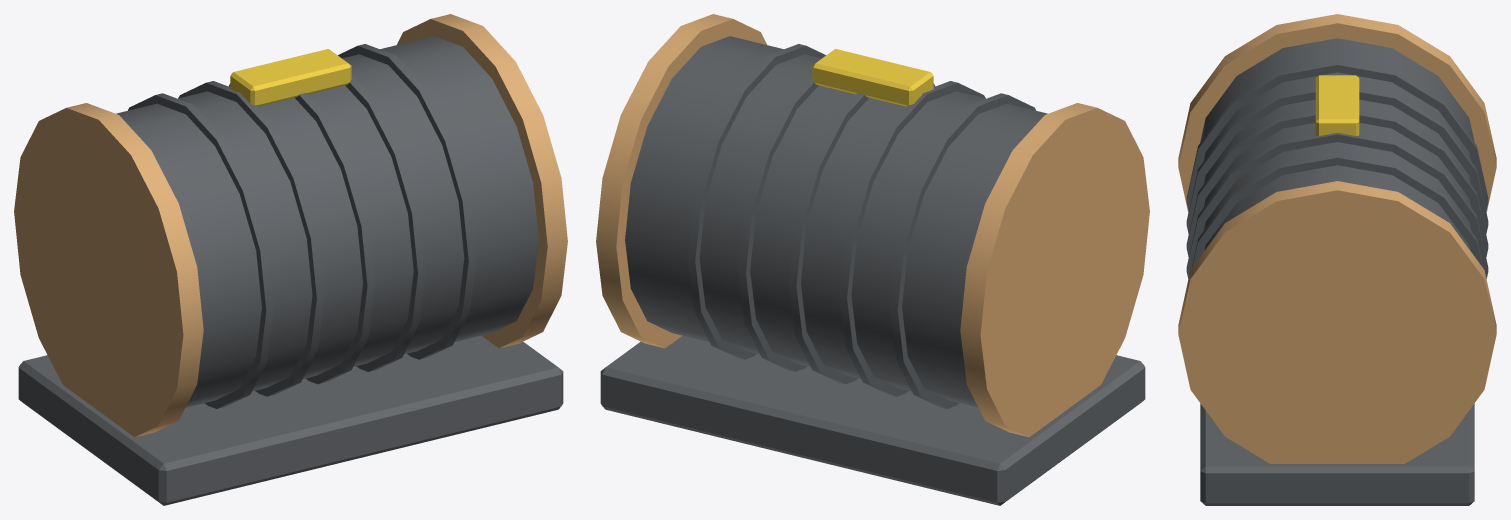
File: salvage_engine_part.glb
3 views of the same model, side by side, from view 1: azimuth 30°, elevation 25°; view 2: azimuth 150°, elevation 25°; view 3: azimuth 270°, elevation 25° (orthographic). The views are drawn at different scales.
Parts seen in each view (by area): view 1: salvage_engine_part; view 2: salvage_engine_part; view 3: salvage_engine_part.
Boxes of the visible parts, <box> form: salvage_engine_part: <box>14,14,567,505</box>; salvage_engine_part: <box>596,14,1149,505</box>; salvage_engine_part: <box>1178,14,1496,505</box>.
Size of the model in its own units: 0.8 by 0.64 by 0.58.
